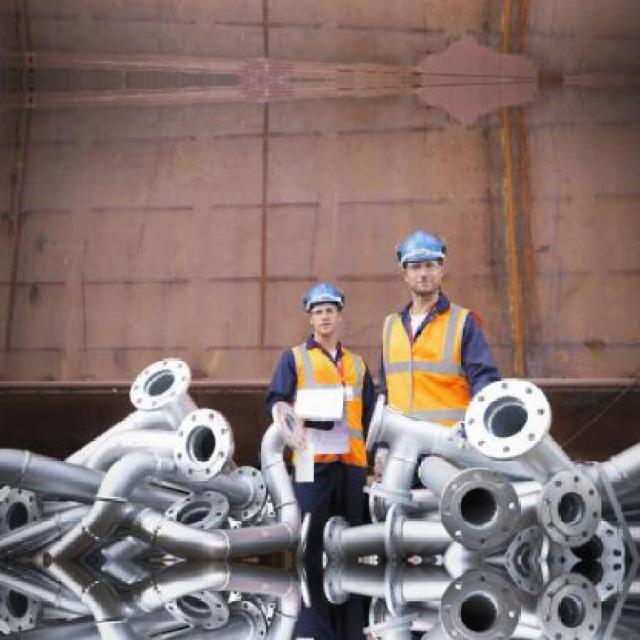Reflective-Jacket: (377, 298, 480, 431), (280, 340, 372, 475)
Safety-Helmet: (389, 223, 451, 269), (296, 274, 350, 314)
